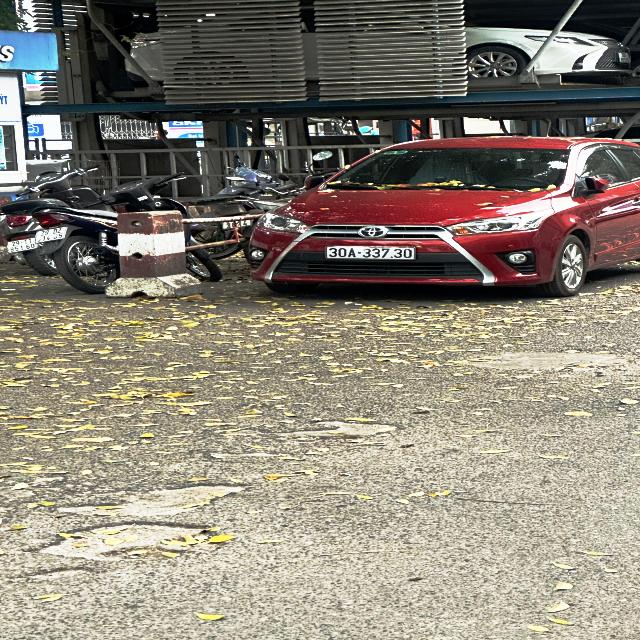license_plate: (325, 247, 418, 261)
